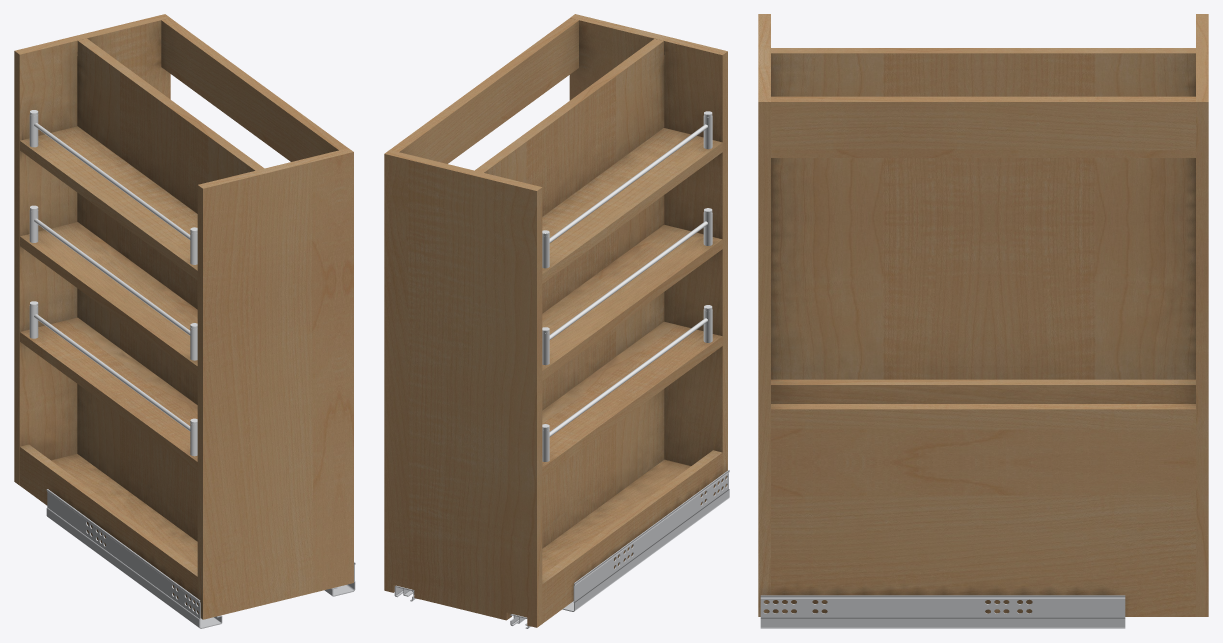
The model's file is inserts-tray-foil-organizer.glb.
The picture shows the model from 3 angles, left to right: view 1: azimuth 30°, elevation 25°; view 2: azimuth 150°, elevation 25°; view 3: azimuth 270°, elevation 25°; orthographic projection. The views are drawn at different scales.
Visible parts, largest first — view 1: insert; view 2: insert; view 3: insert.
Boxes of the visible parts, <box> form: insert: <box>14,14,355,628</box>; insert: <box>384,14,729,628</box>; insert: <box>758,14,1208,628</box>.
Bounding box in the file's own units: 0.2662 × 0.7172 × 0.556.
Materials: 6 (1 with a texture image).
